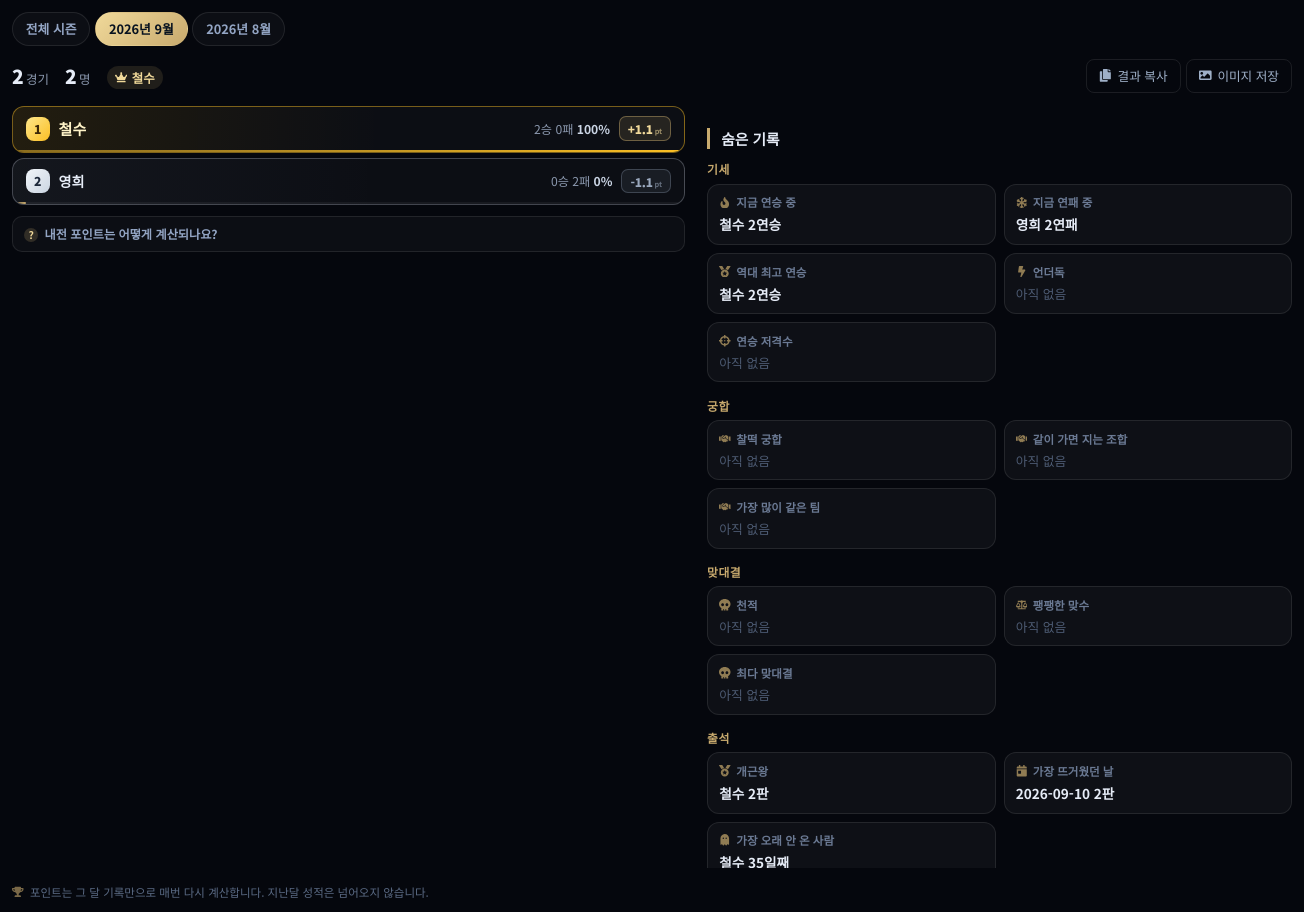
숨은 기록이 고른 기간을 따라간다
Expected: the element with class "season-insights" shows "2연승", [719,214,781,234]
Click the button "전체 시즌" at (51, 29), box [12,12,90,46]
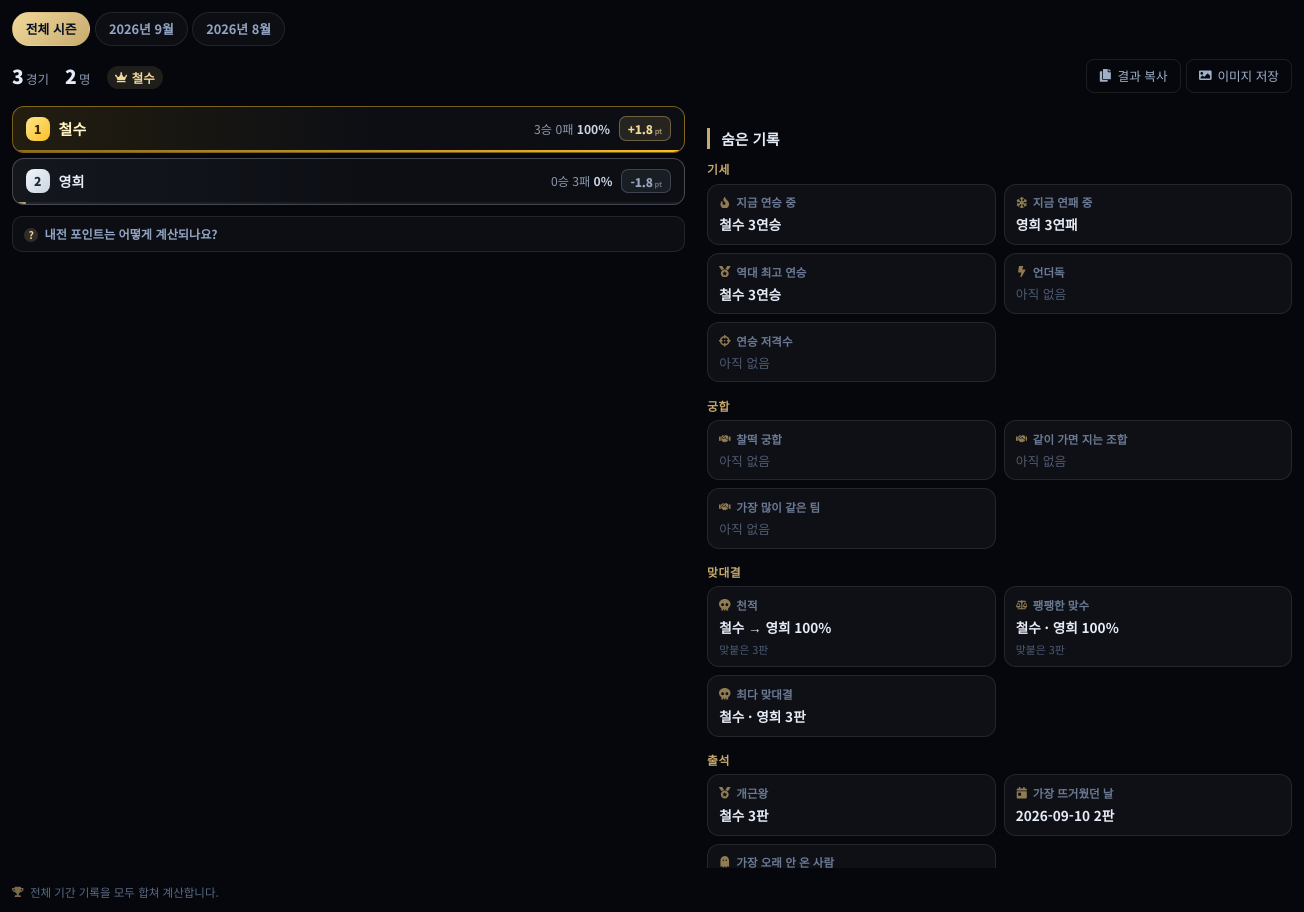
Expected: the element with class "season-insights" shows "3연승", [719,214,781,234]
